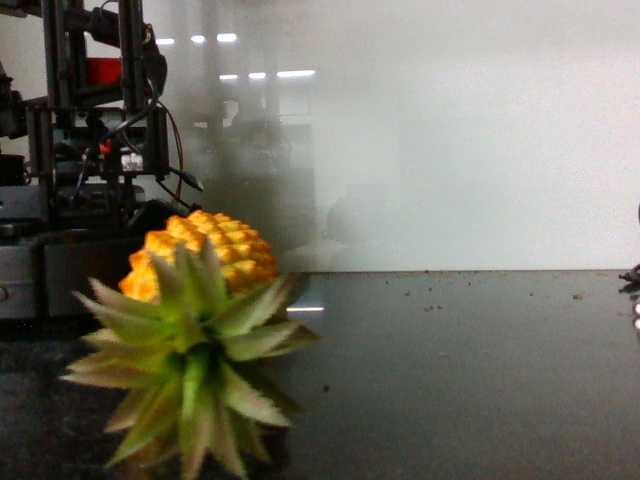pineapple: (93, 202, 286, 465)
